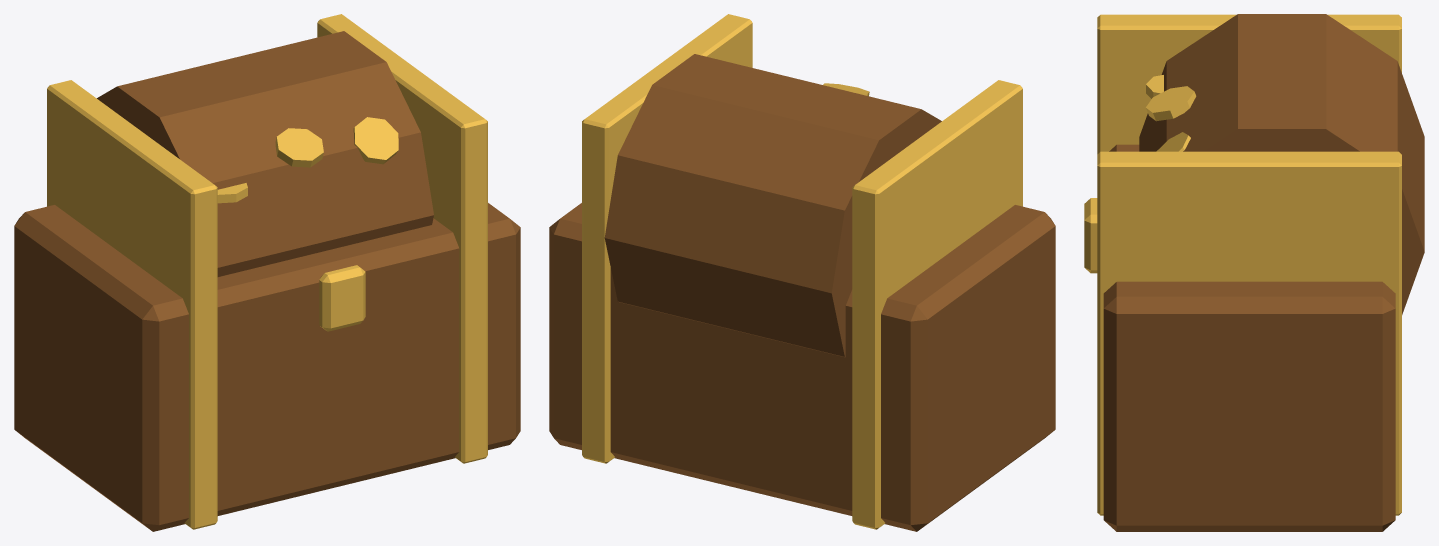
File: PR_Furniture_Sandik.fbx
The picture shows the model from 3 angles, left to right: view 1: azimuth 30°, elevation 25°; view 2: azimuth 150°, elevation 25°; view 3: azimuth 270°, elevation 25°; orthographic projection. The views are drawn at different scales.
Parts seen in each view (by area): view 1: PR_Furniture_Sandik; view 2: PR_Furniture_Sandik; view 3: PR_Furniture_Sandik.
Boxes of the visible parts, <box> form: PR_Furniture_Sandik: <box>14,14,520,531</box>; PR_Furniture_Sandik: <box>549,14,1055,531</box>; PR_Furniture_Sandik: <box>1084,14,1424,531</box>.
Size of the model in its own units: 0.7 by 0.6292 by 0.525.
Materials: 1 (1 with a texture image).
